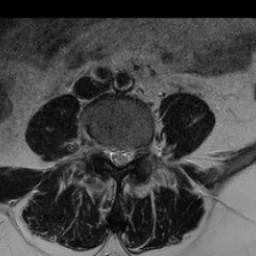CCS_stenosis: (115, 140, 123, 174)
LFS_normal: (133, 137, 143, 162)
LLS_normal: (123, 140, 132, 167)
RFS_normal: (98, 135, 107, 162)
RLS_normal: (107, 140, 115, 171)
